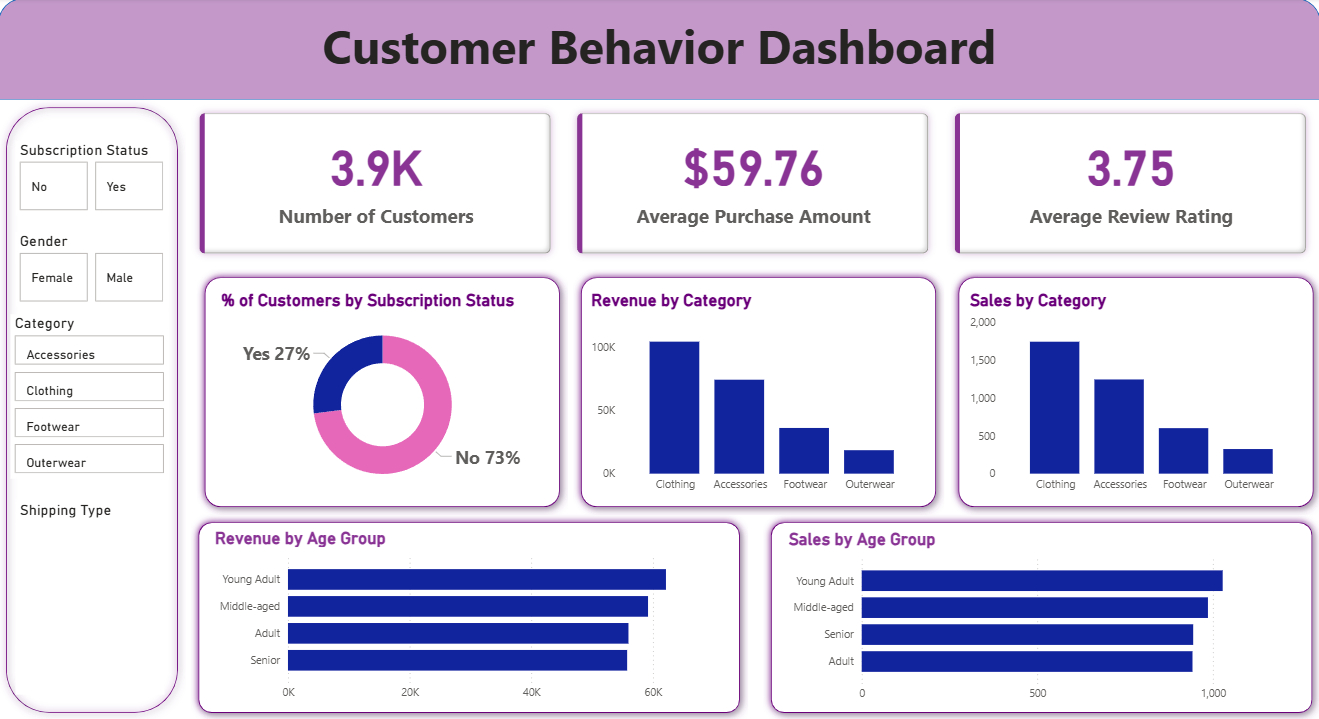

The page's visual inventory and layout, read from the dashboard file:
{"tool":"powerbi","page":{"name":"Page 1","canvas":[1500,820],"ordinal":0},"visuals":[{"type":"cardVisual","fields":{"Data":["public customer.Number of Customers","public customer.Average Purchase Amount","public customer.Average Review Rating"]},"box":[212.9,115.3,1286.5,191.6],"z":2000},{"type":"shape","box":[218.3,585.6,631.7,234.2],"z":2500,"group":"g1"},{"type":"shape","box":[0,0,1499.4,115.3],"z":3000},{"type":"textbox","box":[0,12.4,1499.4,102.9],"z":4000},{"type":"shape","box":[225.4,307,420.5,278.6],"z":5000},{"type":"donutChart","title":"% of Customers by Subscription Status","fields":{"Category":["public customer.subscription_status"],"Y":["CountNonNull(public customer.customer_id)"]},"box":[248.4,331.8,376.2,237.8],"z":6000},{"type":"shape","box":[1078.9,307,420.5,278.6],"z":7000},{"type":"shape","box":[652.1,307,420.5,278.6],"z":8000},{"type":"clusteredColumnChart","title":"Revenue by Category","fields":{"Y":["Sum(public customer.purchase_amount)"],"Category":["public customer.category"]},"box":[667.2,331.8,385.1,237.8],"z":9000},{"type":"clusteredColumnChart","title":"Sales by Category","fields":{"Y":["CountNonNull(public customer.customer_id)"],"Category":["public customer.category"]},"box":[1096.6,331.8,385.1,237.8],"z":10000},{"type":"shape","box":[0,115.3,212.9,704.5],"z":11000},{"type":"advancedSlicerVisual","fields":{"Values":["public customer.subscription_status"]},"box":[19.5,161.5,173.9,85.2],"z":12000},{"type":"advancedSlicerVisual","fields":{"Values":["public customer.gender"]},"box":[19.5,264.4,173.9,85.2],"z":13000},{"type":"advancedSlicerVisual","fields":{"Values":["public customer.category"]},"box":[14.2,358.4,179.2,186.3],"z":14000},{"type":"listSlicer","fields":{"Values":["public customer.shipping_type"]},"box":[19.5,569.6,168.6,220],"z":15000},{"type":"shape","box":[867.7,585.6,631.7,234.2],"z":16000},{"type":"clusteredBarChart","title":"Sales by Age Group","fields":{"Y":["CountNonNull(public customer.customer_id)"],"Category":["public customer.age_group"]},"box":[890.8,601.5,585.6,204.1],"z":17000},{"type":"clusteredBarChart","title":"Revenue by Age Group","fields":{"Y":["Sum(public customer.purchase_amount)"],"Category":["public customer.age_group"]},"box":[241.4,601.6,585.6,204.1],"z":17500,"group":"g1"},{"type":"group","id":"g1","title":"Group 1","box":[218.3,585.6,631.7,234.2],"z":17501}]}

Visuals, with their boxes in screenshot pixels (x1, y1, x2, y2), scaled from the page's 1500x820 canvas onto the 1319x719 screenshot:
cardVisual - public customer.Number of Customers x public customer.Average Purchase Amount: l=187, t=101, r=1318, b=269
shape: l=192, t=513, r=747, b=718
shape: l=0, t=0, r=1318, b=101
textbox: l=0, t=11, r=1318, b=101
shape: l=198, t=269, r=568, b=513
"% of Customers by Subscription Status" donutChart: l=218, t=291, r=549, b=499
shape: l=949, t=269, r=1318, b=513
shape: l=573, t=269, r=943, b=513
"Revenue by Category" clusteredColumnChart: l=587, t=291, r=925, b=499
"Sales by Category" clusteredColumnChart: l=964, t=291, r=1303, b=499
shape: l=0, t=101, r=187, b=718
advancedSlicerVisual - public customer.subscription_status: l=17, t=142, r=170, b=216
advancedSlicerVisual - public customer.gender: l=17, t=232, r=170, b=307
advancedSlicerVisual - public customer.category: l=12, t=314, r=170, b=478
listSlicer - public customer.shipping_type: l=17, t=499, r=165, b=692
shape: l=763, t=513, r=1318, b=718
"Sales by Age Group" clusteredBarChart: l=783, t=527, r=1298, b=706
"Revenue by Age Group" clusteredBarChart: l=212, t=528, r=727, b=706
"Group 1" group: l=192, t=513, r=747, b=718
